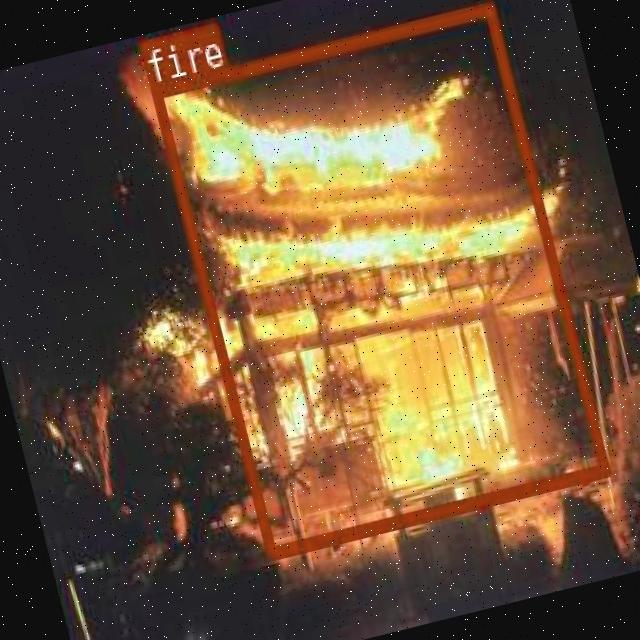fire: (147, 0, 607, 559)
